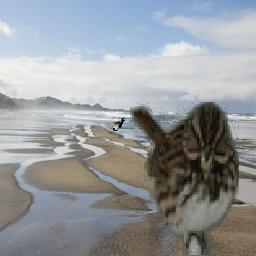Sparrow: (131, 103, 240, 256)
Swallow: (112, 117, 126, 131)
